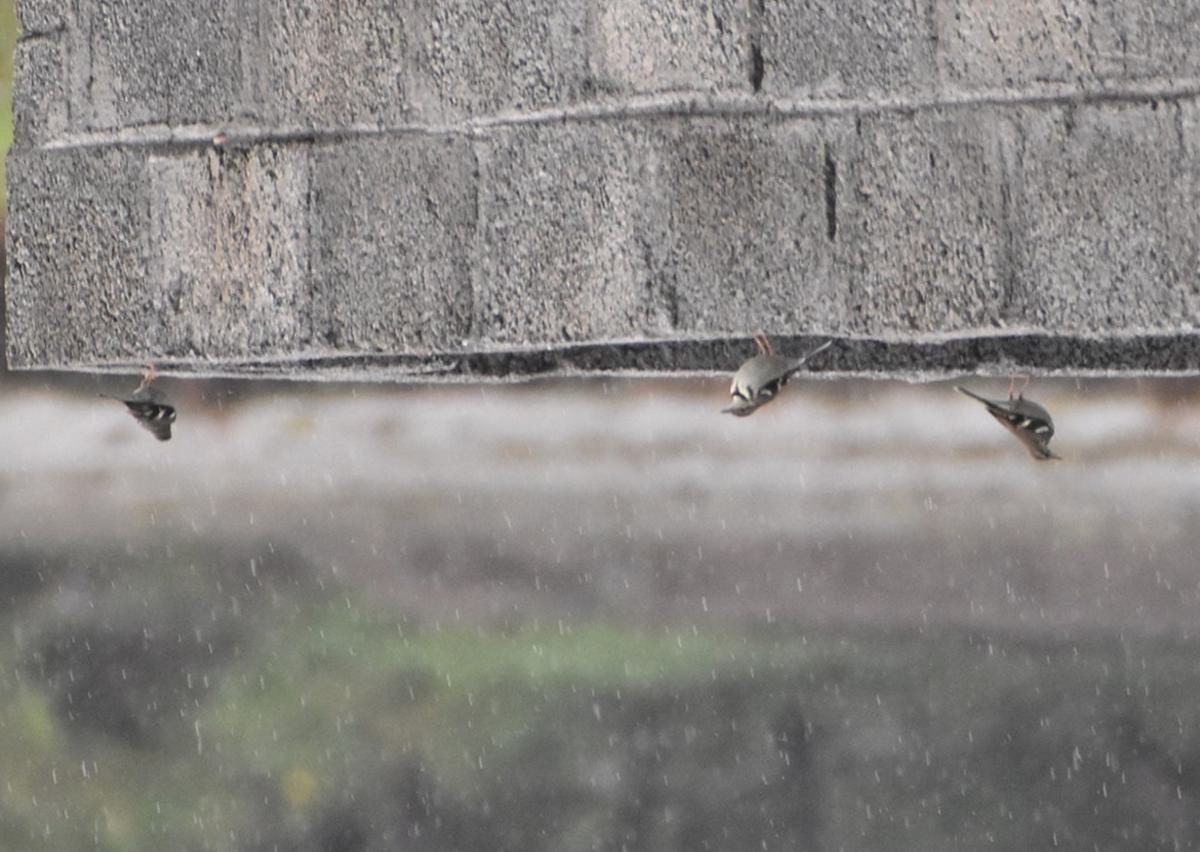wagtail: (704, 336, 850, 431)
